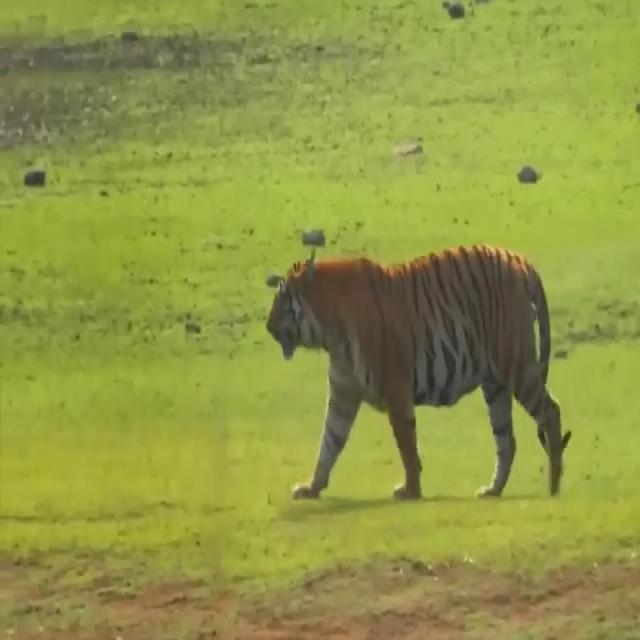tiger: (263, 242, 574, 500)
